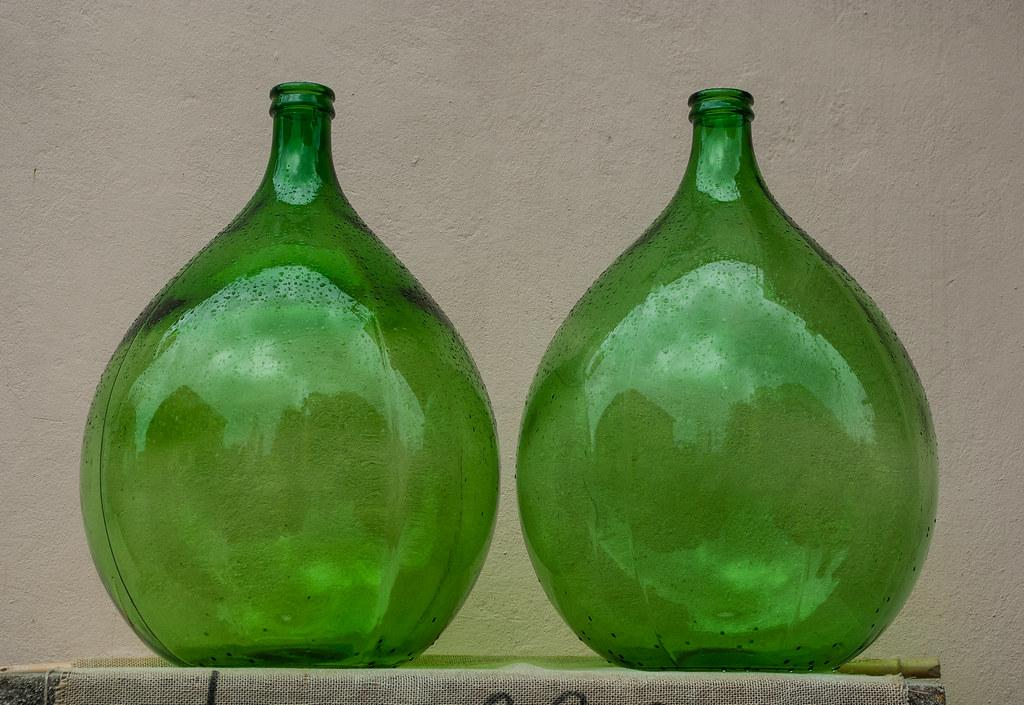bottle: (515, 86, 940, 674), (79, 80, 501, 669)
